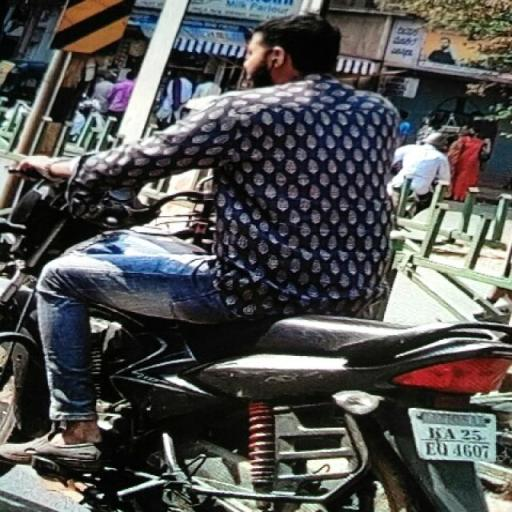bike: (0, 0, 509, 512)
numberplate: (412, 408, 499, 460)
withouthelmet: (250, 14, 336, 84)
